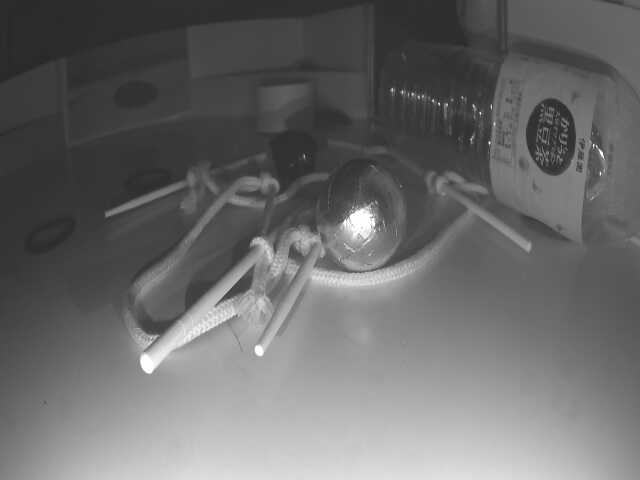Dead: (269, 130, 317, 180)
Live: (317, 160, 405, 270)
Point: (193, 75, 368, 118), (0, 114, 62, 178)
